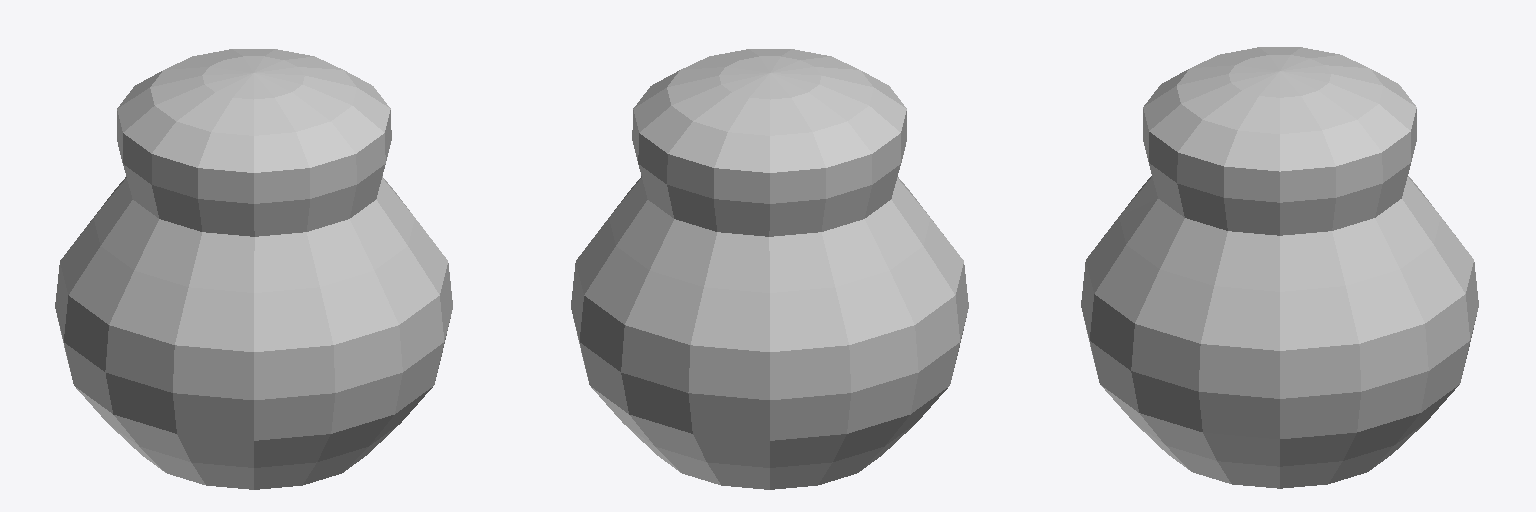
File: lamp_lampBase_3.obj
The picture shows the model from 3 angles: view 1: azimuth 30°, elevation 25°; view 2: azimuth 150°, elevation 25°; view 3: azimuth 270°, elevation 25°; orthographic projection.
Size of the model in its own units: 1.63 by 1.67 by 1.64.